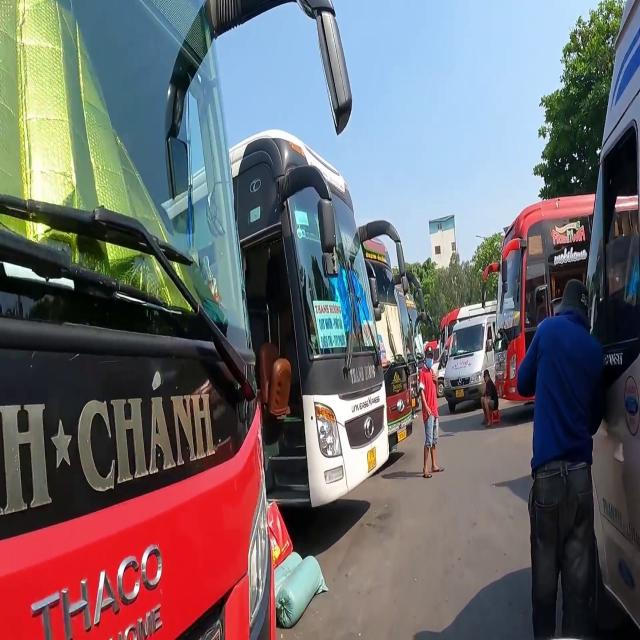bien_vang: (367, 448, 377, 473)
